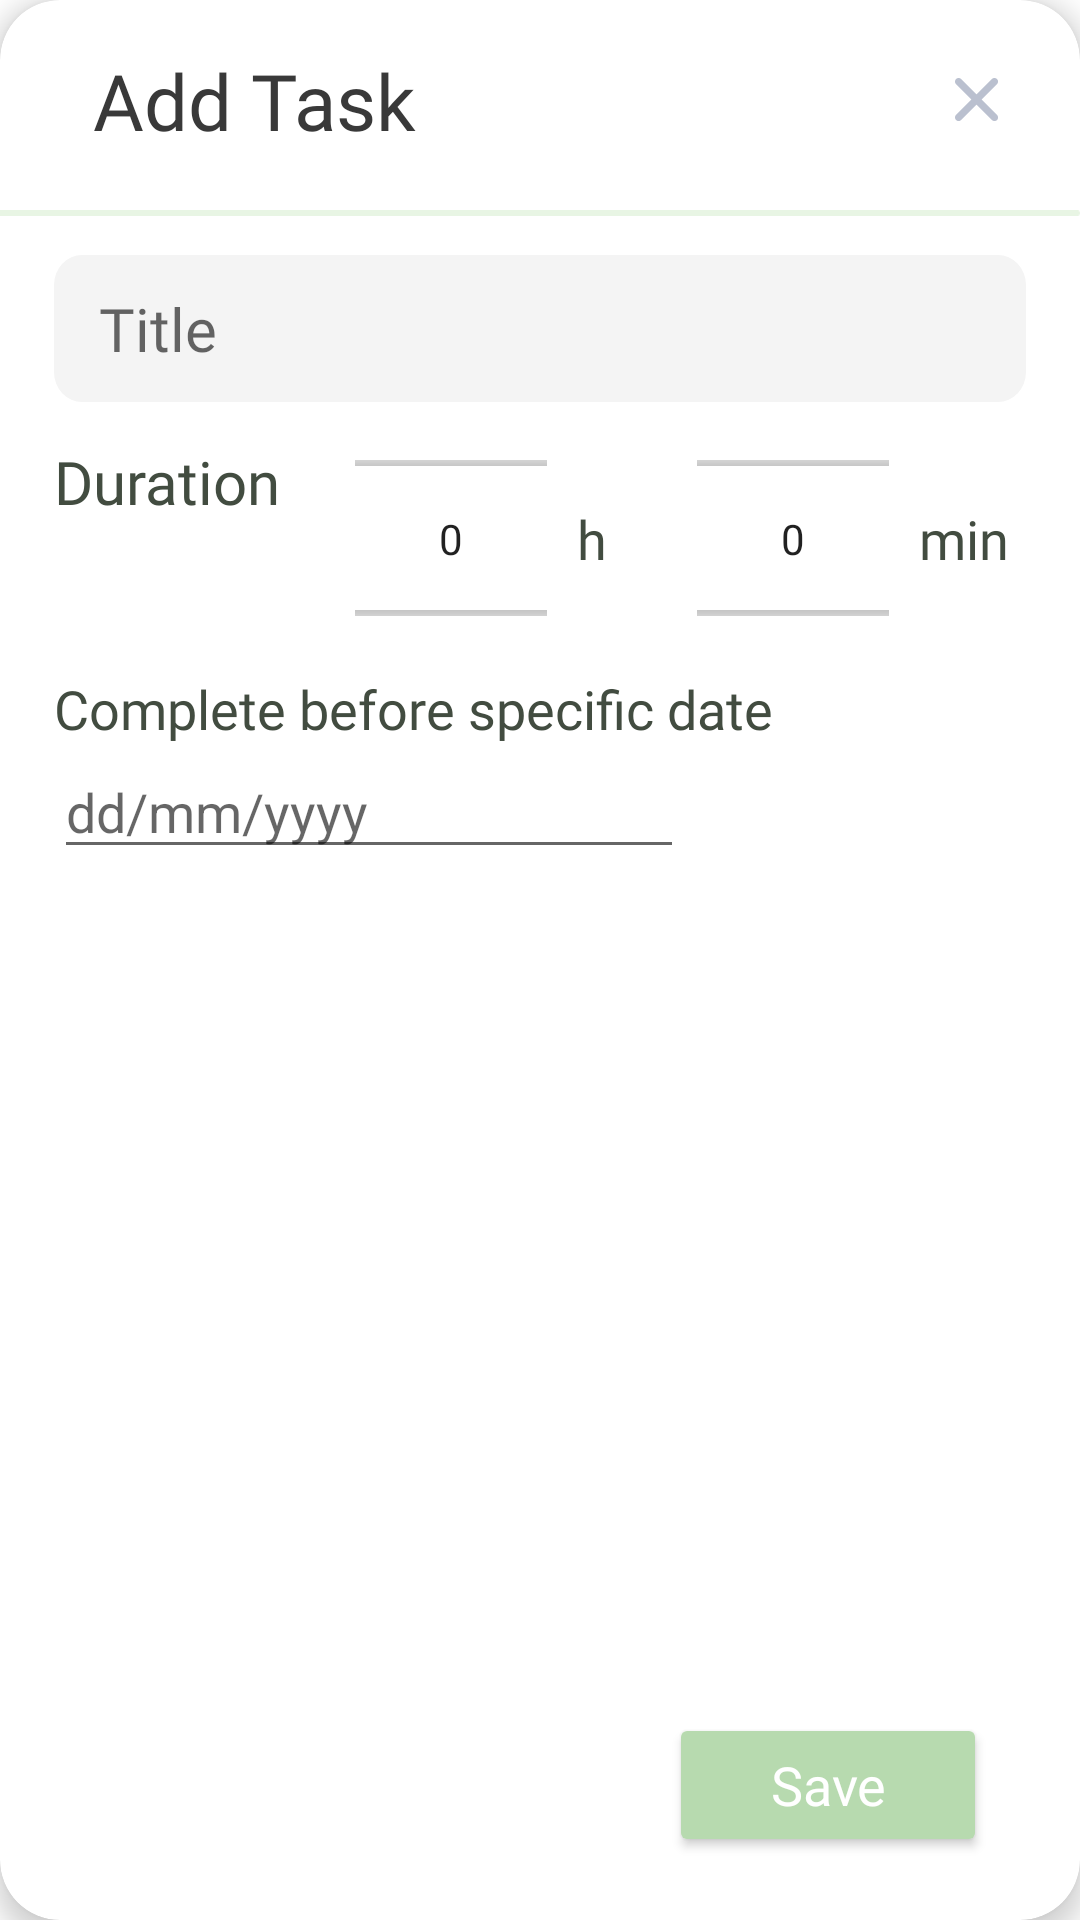

Named icons in this screenshot (1080*1920) and their centers, (x=x, y=y):
exit: (x=976, y=99)
